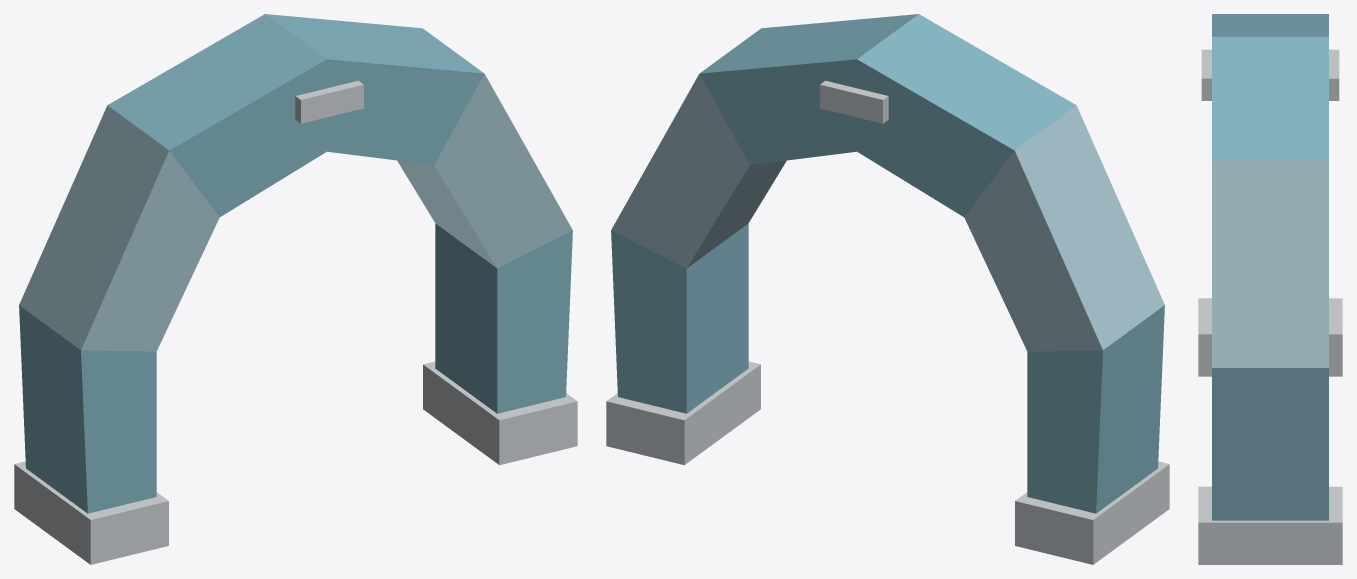
The model's file is Frosty_IceArch_Showcase.glb.
3 views of the same model, side by side, from view 1: azimuth 30°, elevation 25°; view 2: azimuth 150°, elevation 25°; view 3: azimuth 270°, elevation 25° (orthographic). The views are drawn at different scales.
Parts seen in each view (by area): view 1: Frosty_IceArch_Showcase; view 2: Frosty_IceArch_Showcase; view 3: Frosty_IceArch_Showcase.
Boxes of the visible parts, left/top/right/bottom form: Frosty_IceArch_Showcase: left=14, top=14, right=577, bottom=564; Frosty_IceArch_Showcase: left=606, top=14, right=1169, bottom=564; Frosty_IceArch_Showcase: left=1198, top=14, right=1342, bottom=564.
Bounding box in the file's own units: 3.9 × 3.35 × 1.05.
